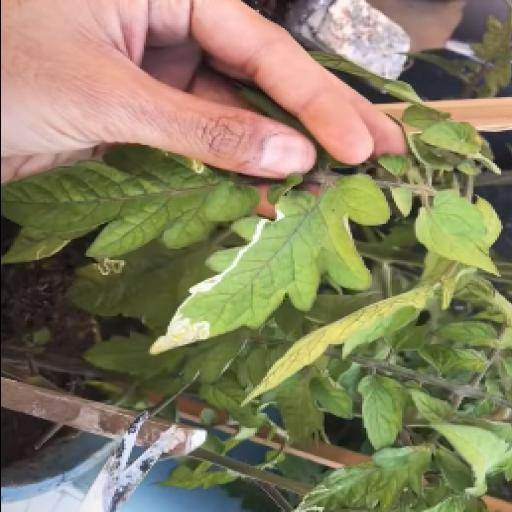Leaf Miner: (147, 166, 397, 356)
